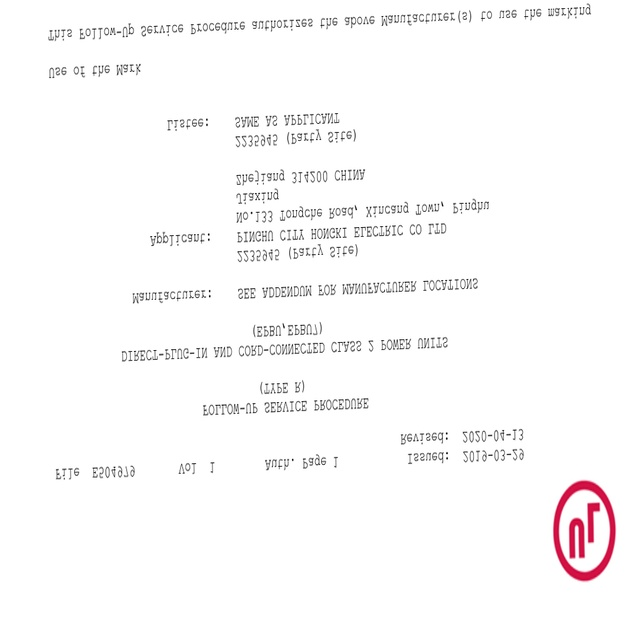ul: (550, 480, 618, 583)
